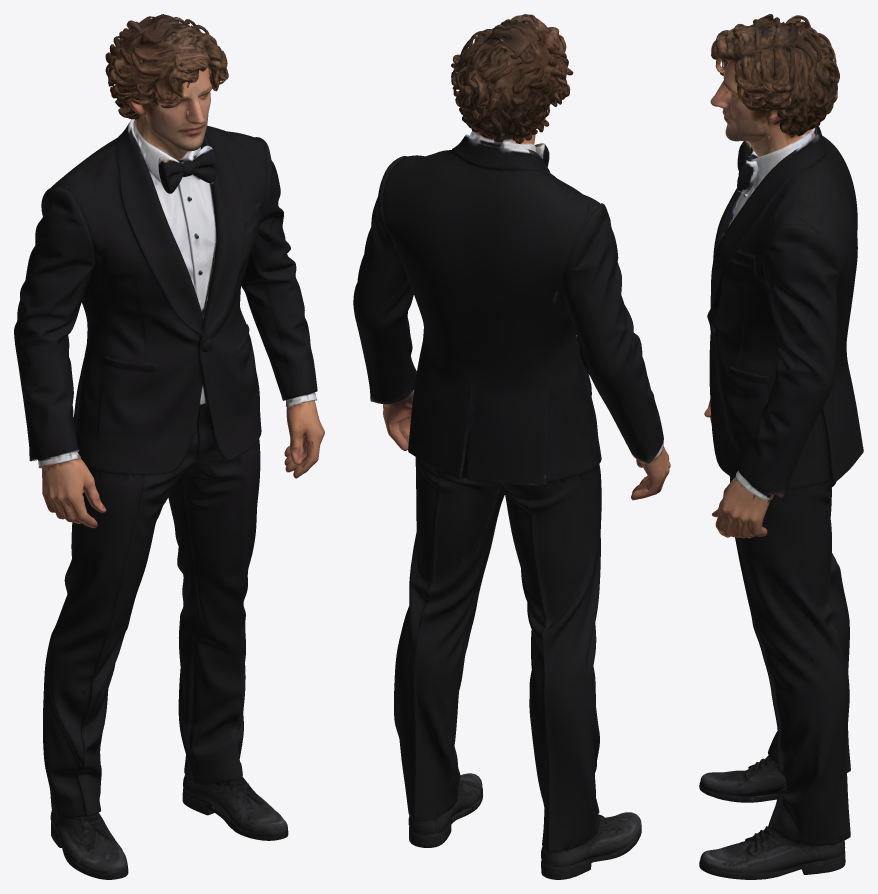
File: black-tie-athlete-v1.glb
3 renders of one model, left to right at view 1: azimuth 30°, elevation 25°; view 2: azimuth 150°, elevation 25°; view 3: azimuth 270°, elevation 25°, orthographic.
Visible parts, largest first — view 1: node_0; view 2: node_0; view 3: node_0.
Part boxes in pixels (x1,y1,x2,y2): node_0: (14, 14, 324, 879); node_0: (353, 14, 670, 879); node_0: (699, 14, 863, 879).
Size of the model in its own units: 0.4205 by 1.16 by 0.212.
Materials: 1 (1 with a texture image).
